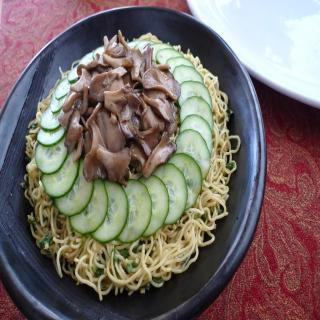Cucumber: (38, 39, 214, 242), (70, 179, 112, 242)
